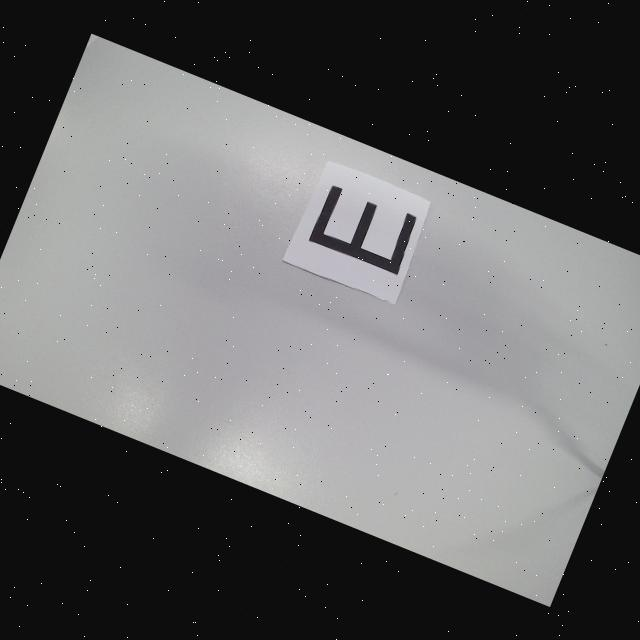FAKE: (308, 182, 422, 276)
